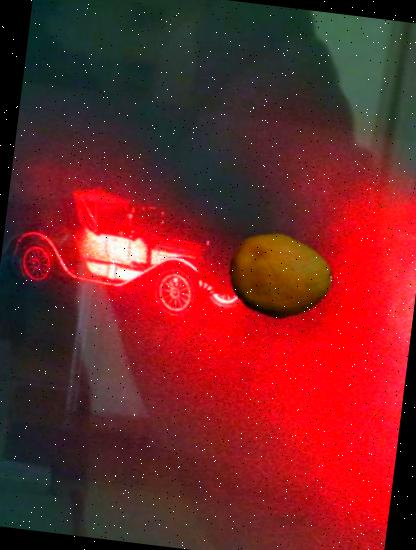Papaya: (223, 220, 338, 335)
